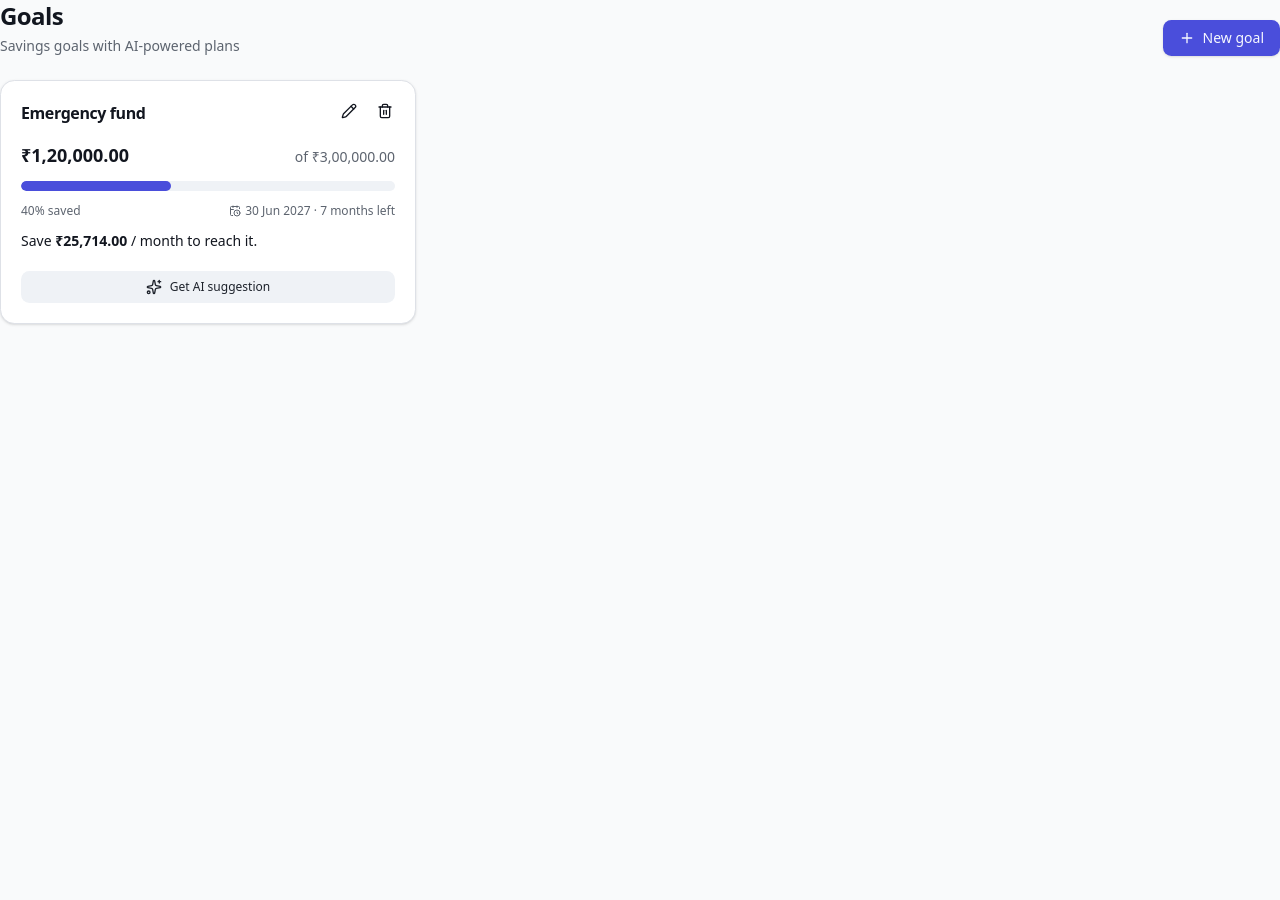
<GoalsPage> › shows goals and an AI suggestion
The width and height of the screenshot is (1280, 900).
Check: the element with test id "goal-card" shows "Emergency fund", box [21, 102, 146, 124]
Click the button "Get AI suggestion" at (208, 287), box [21, 271, 395, 303]
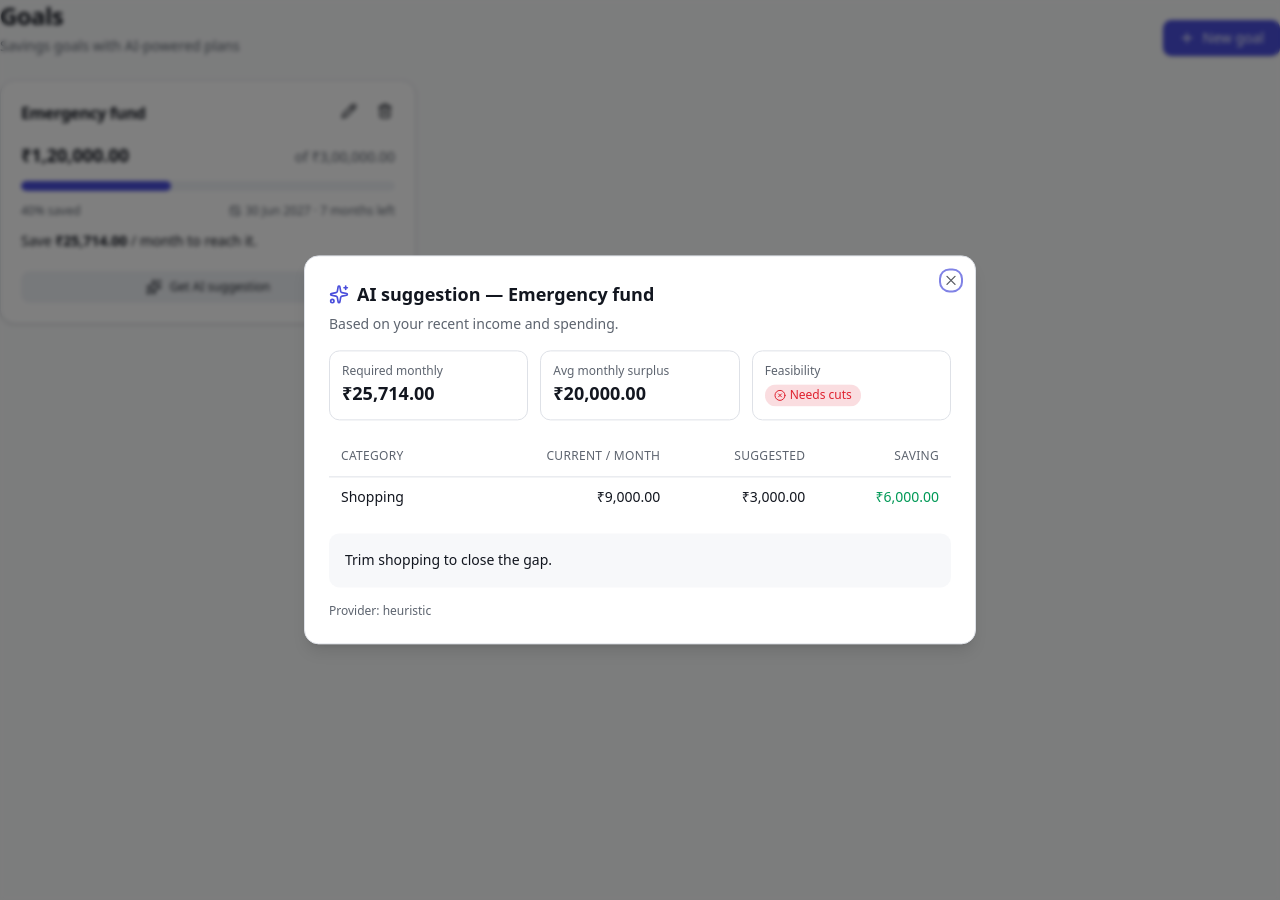
Check: the element with test id "goal-suggestion" shows "Needs cuts", box [790, 386, 852, 403]
Check: the element with test id "goal-suggestion" shows "Trim shopping to close the gap.", box [345, 550, 552, 569]
Check: the table named "Suggested cuts" shows "₹6,000.00", box [875, 487, 939, 506]
